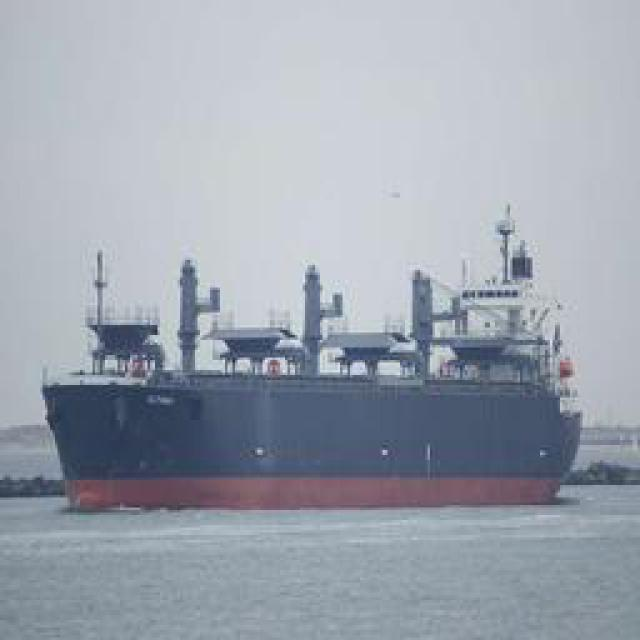Ship: (54, 202, 584, 505)
